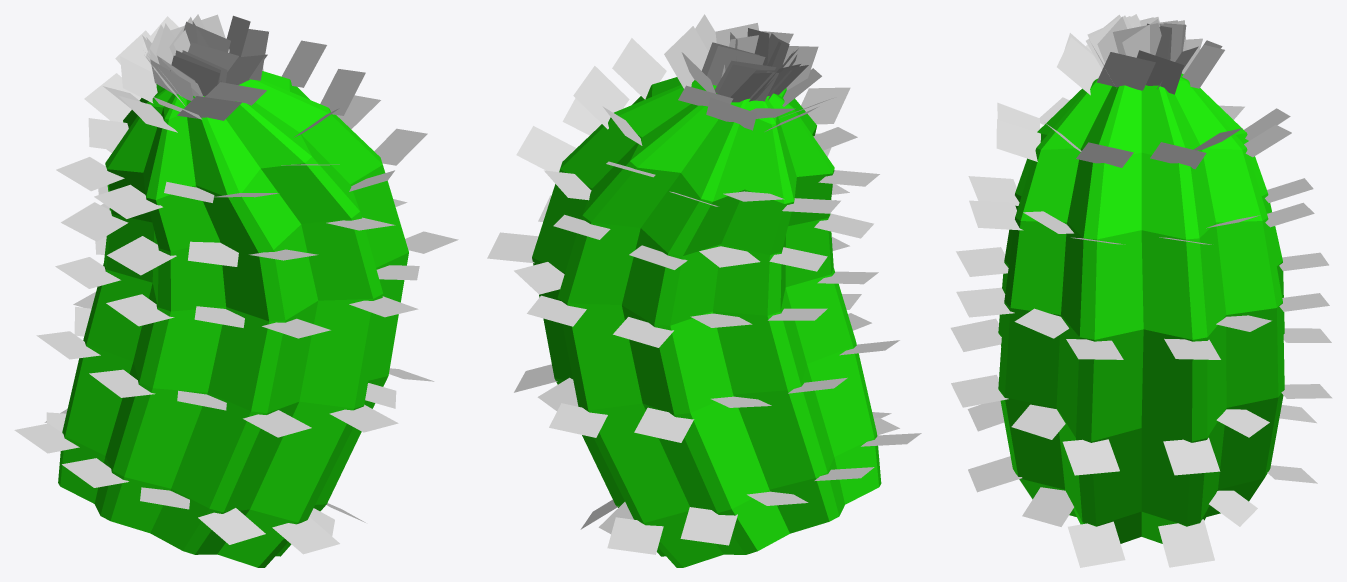
The model's file is Cactus_3.fbx.
The picture shows the model from 3 angles, left to right: view 1: azimuth 30°, elevation 25°; view 2: azimuth 150°, elevation 25°; view 3: azimuth 270°, elevation 25°; orthographic projection. The views are drawn at different scales.
Parts seen in each view (by area): view 1: Cactus_3.002; view 2: Cactus_3.002; view 3: Cactus_3.002.
Boxes of the visible parts, bbox=[...] form: Cactus_3.002: bbox=[14, 14, 458, 567]; Cactus_3.002: bbox=[487, 14, 921, 567]; Cactus_3.002: bbox=[950, 14, 1332, 567].
Size of the model in its own units: 31.02 by 41.08 by 28.37.
